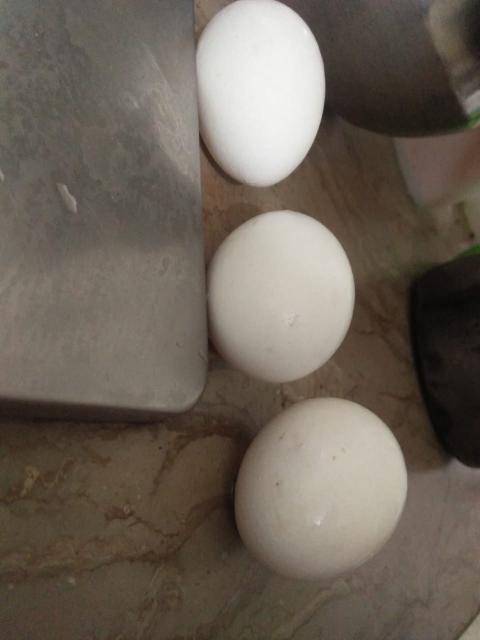Sano: (237, 397, 410, 580), (210, 209, 357, 384), (194, 2, 326, 187)
